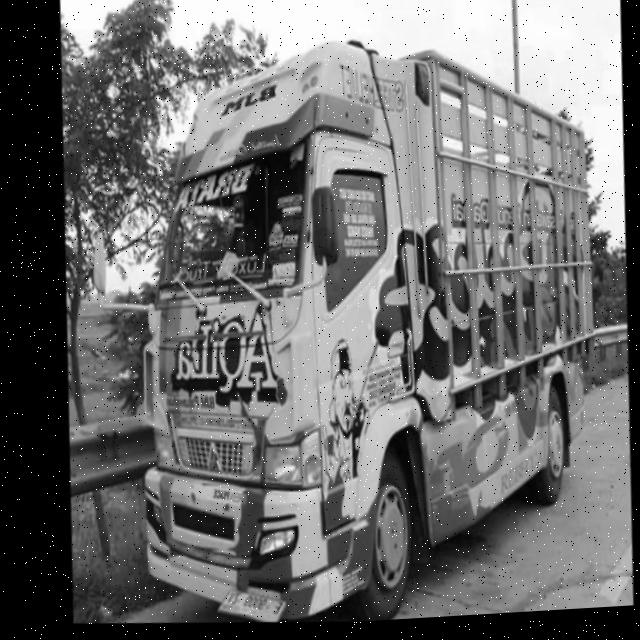truck: (53, 23, 491, 639)
